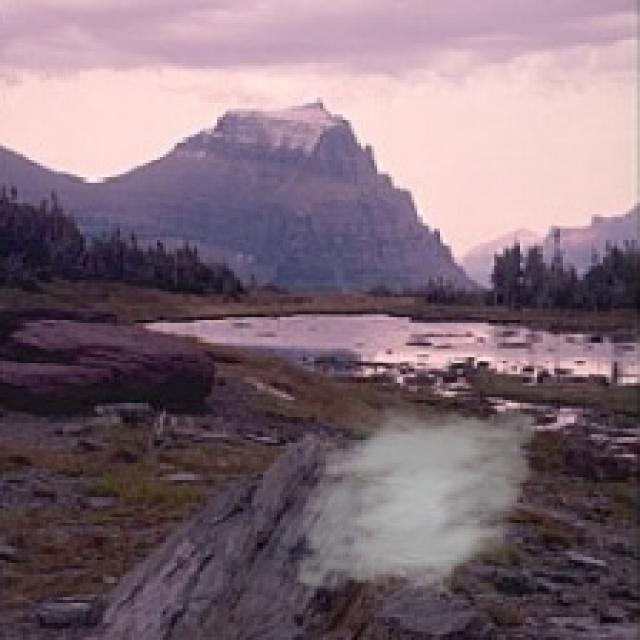Smoke: (286, 388, 548, 606)
